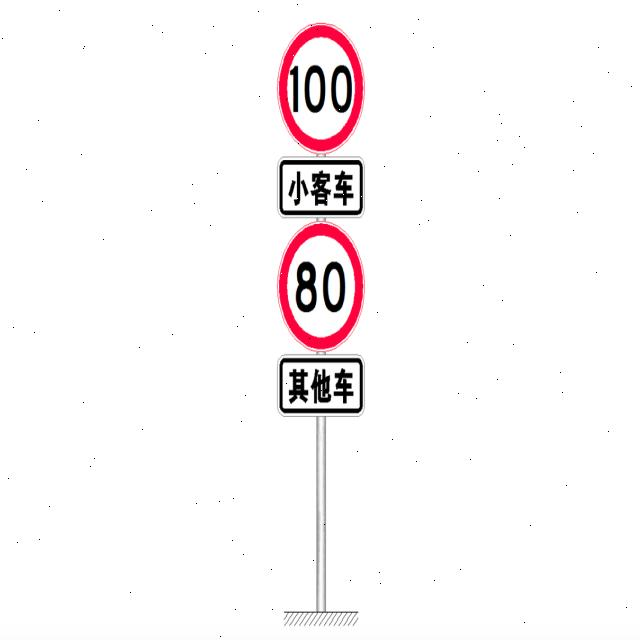speed limit 100: (276, 26, 365, 153)
speed limit 80: (277, 221, 366, 353)
